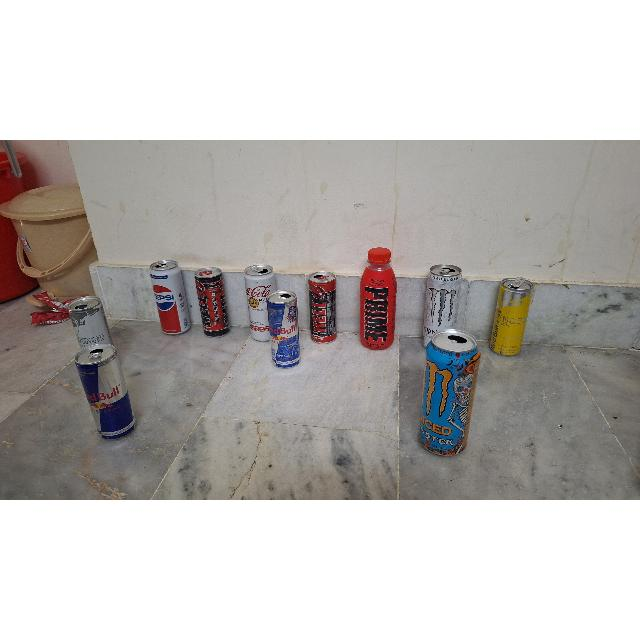Coca Cola Plus: (238, 266, 272, 344)
Hell Apple: (304, 272, 342, 342)
Hell Classic: (190, 263, 232, 337)
Monster Mango Loco: (422, 326, 482, 454)
Pepsi Retro: (140, 266, 194, 336)
Prime - Shitass: (354, 245, 398, 347)
Redbull: (72, 346, 138, 442)
Redbull DanceYourStyle: (266, 294, 302, 364)
Redbull Summer Edition: (62, 304, 116, 344)
Redbull Yellow Edition: (492, 278, 540, 358)
White Monster: (422, 263, 466, 325)
